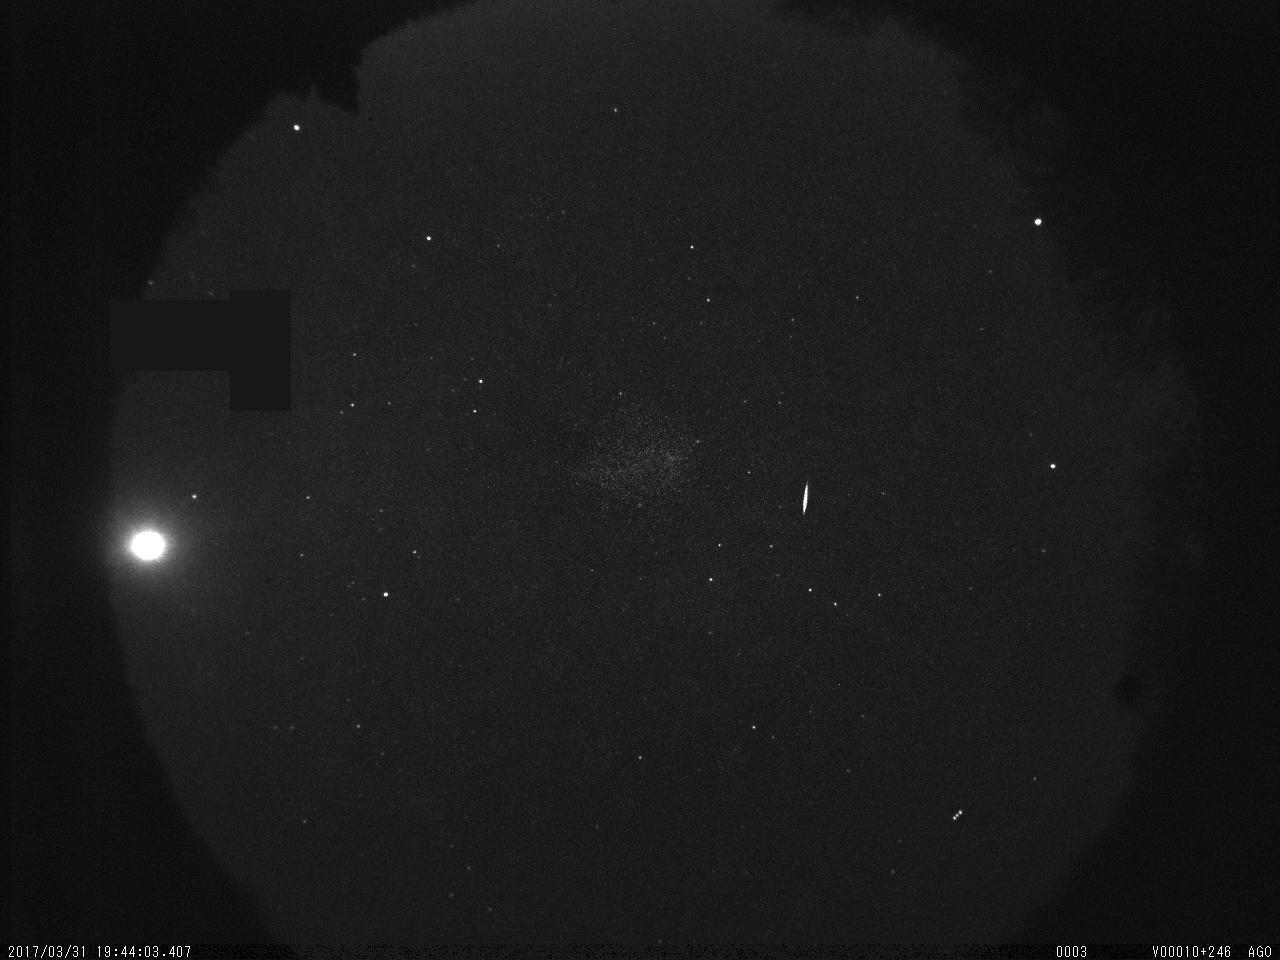Meteor: (799, 480, 810, 514)
